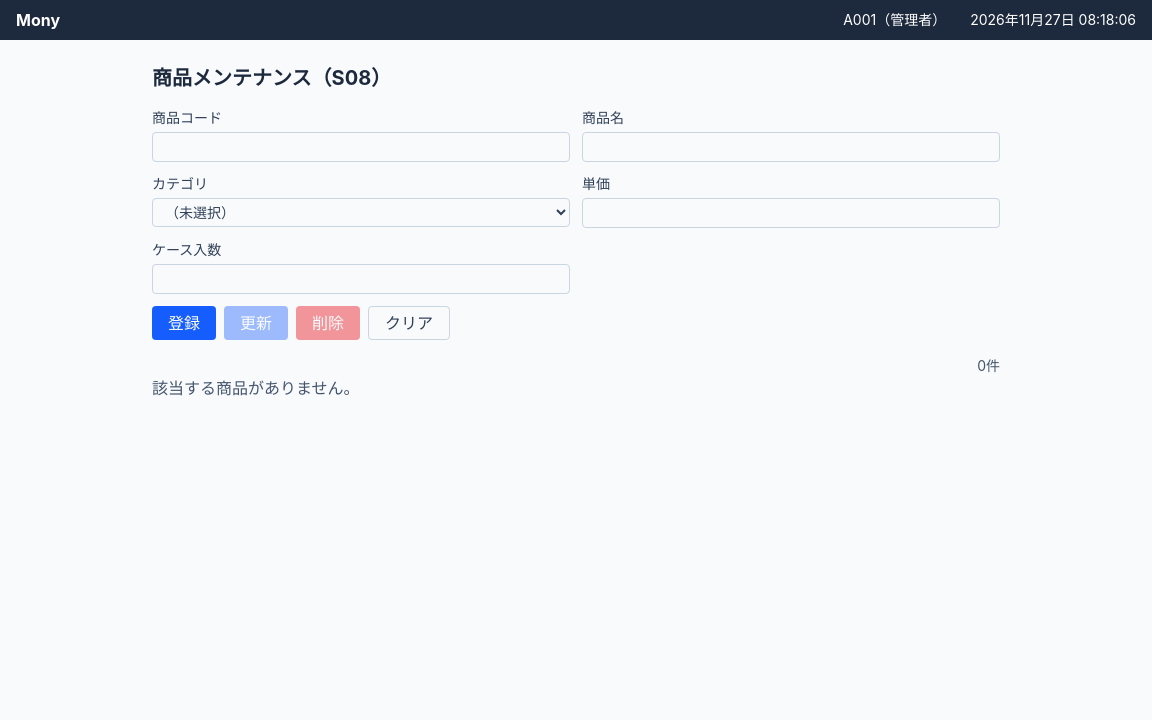
登録 › 確認で「いいえ」を選ぶと送らない（入力は残る）
Expected: the heading "商品メンテナンス（S08）" is shown, [152,66,391,90]
Type "00000003" into the field labelled "商品コード" at x=361, y=147, box [152,132,570,162]
Type "たわし" into the field labelled "商品名" at x=791, y=147, box [582,132,1000,162]
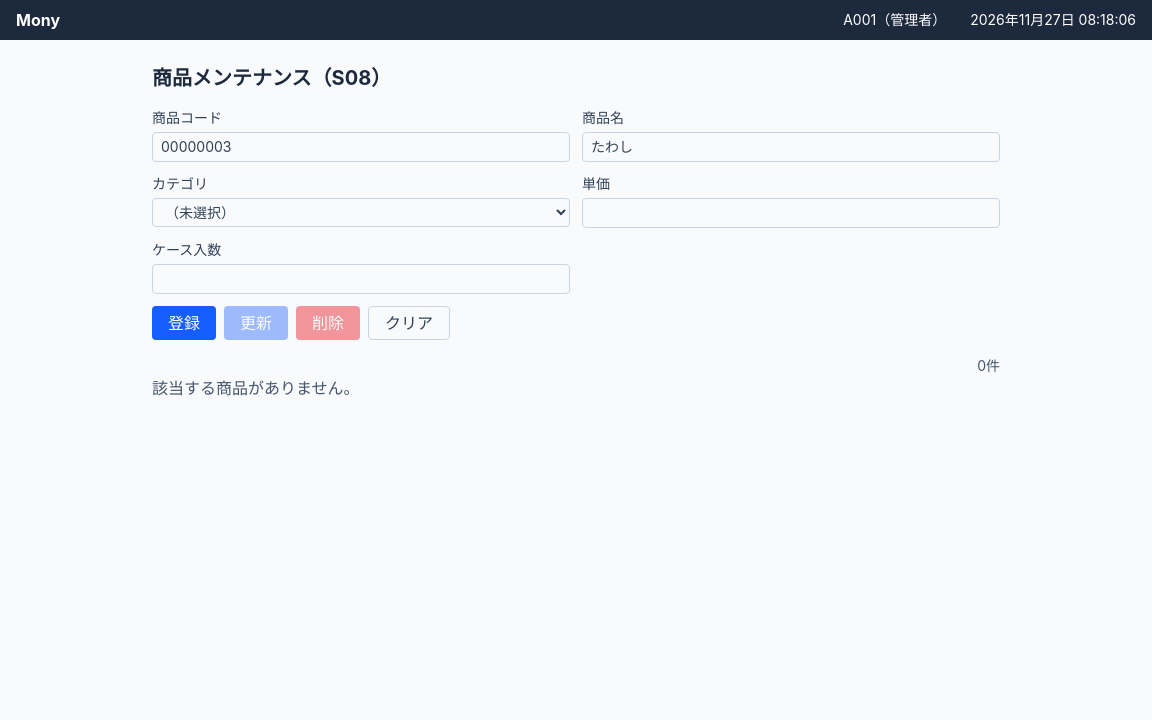
Select "食品" in the dropdown labelled "カテゴリ" at x=361, y=212, box [152,198,570,227]
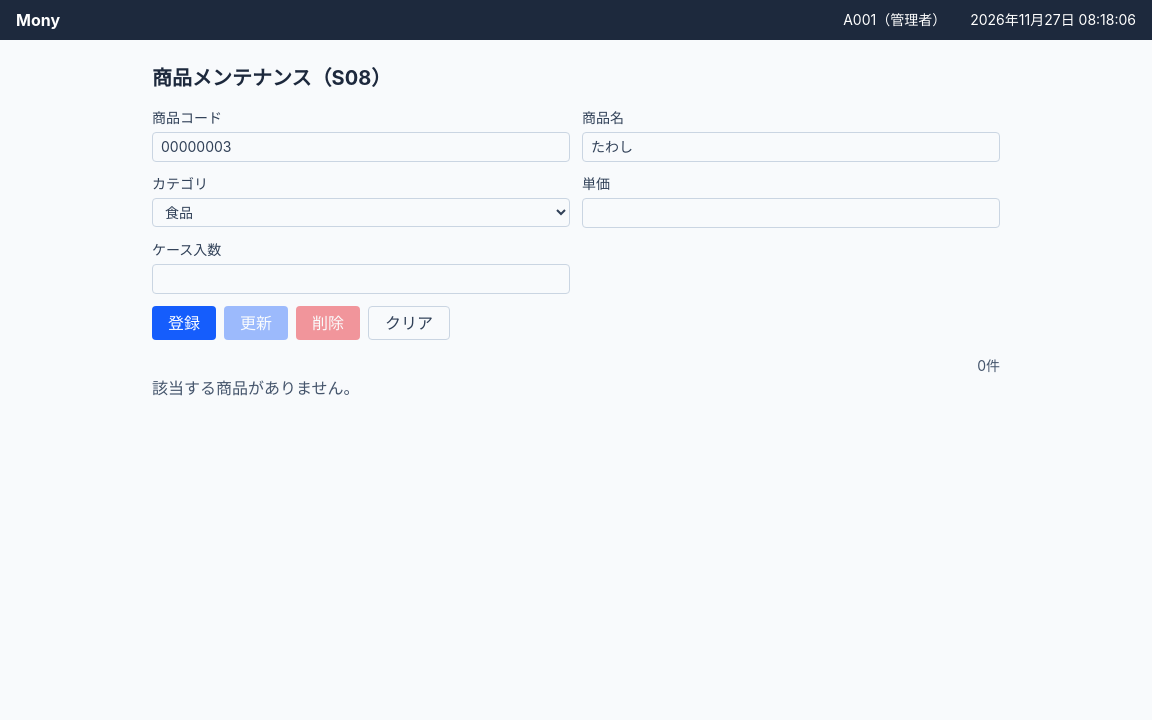
Type "300" into the field labelled "単価" at x=791, y=213, box [582,198,1000,228]
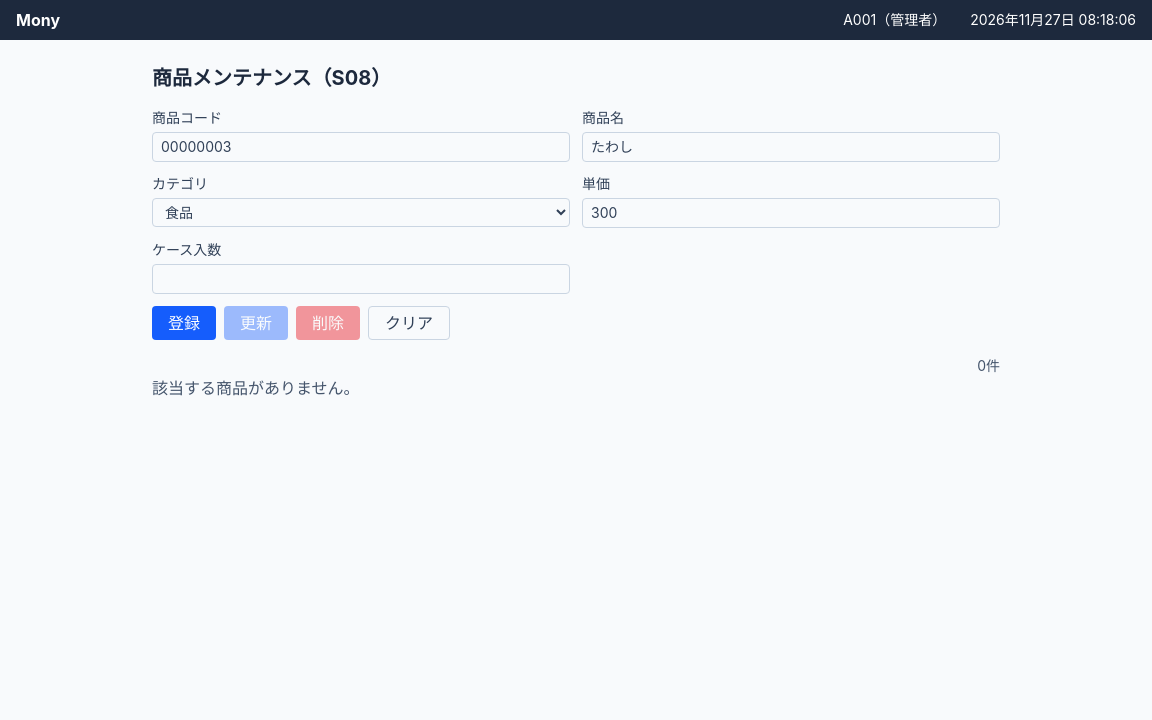
Type "10" into the field labelled "ケース入数" at x=361, y=279, box [152,264,570,294]
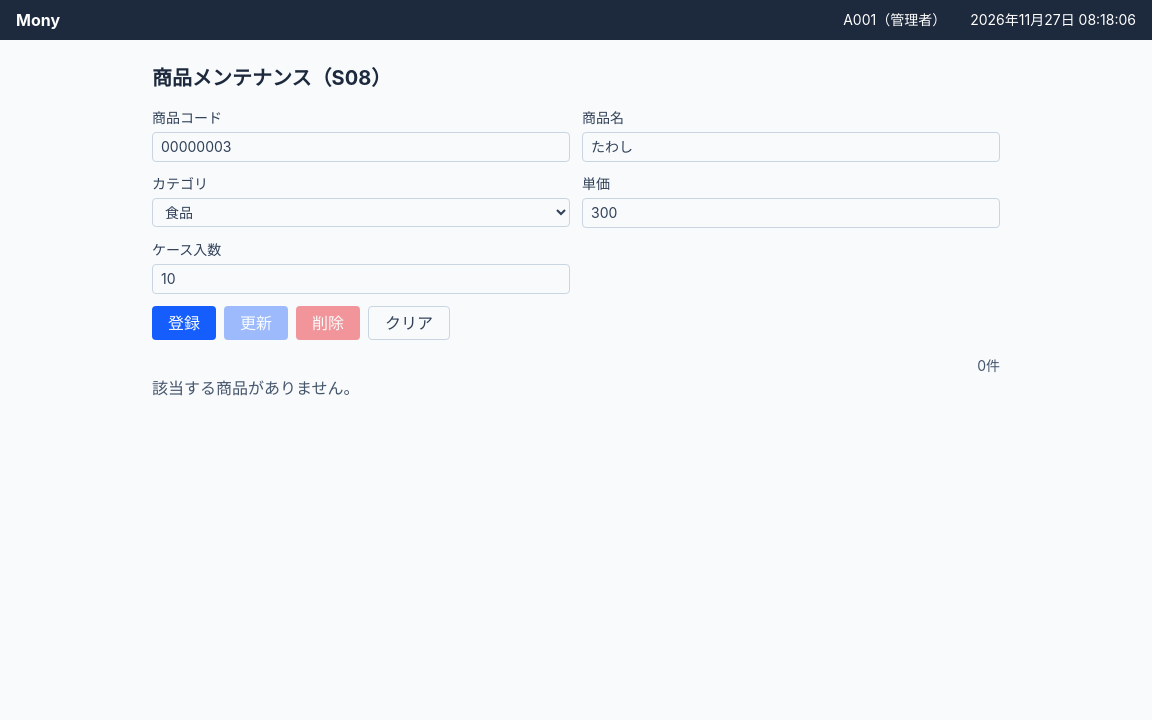
Click the button "登録" at x=184, y=323, box [152,306,216,340]
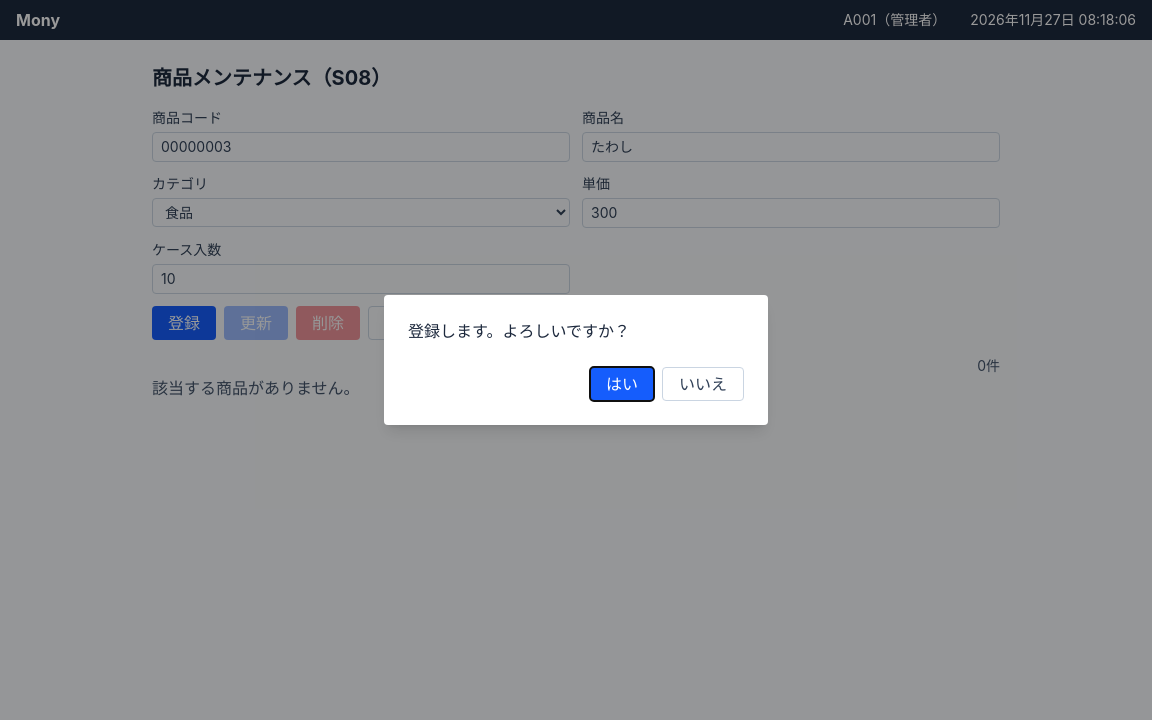
Click the button "いいえ" at x=703, y=384, box [662,367,744,401]
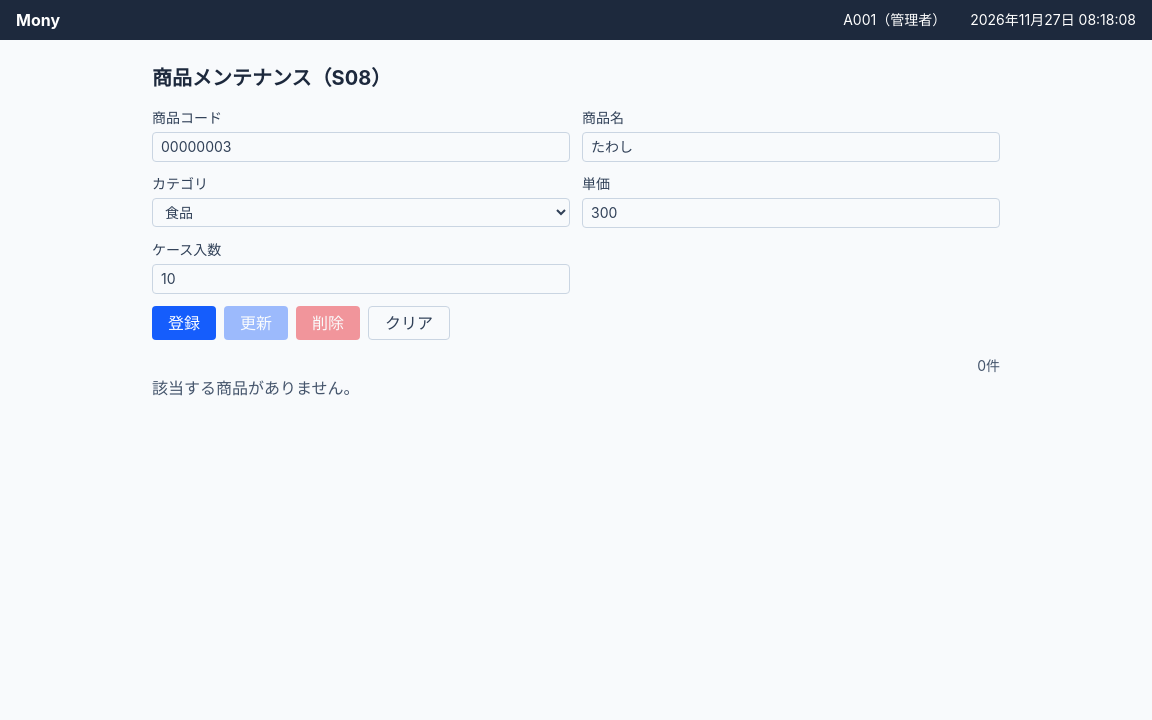
Expected: the dialog is gone
